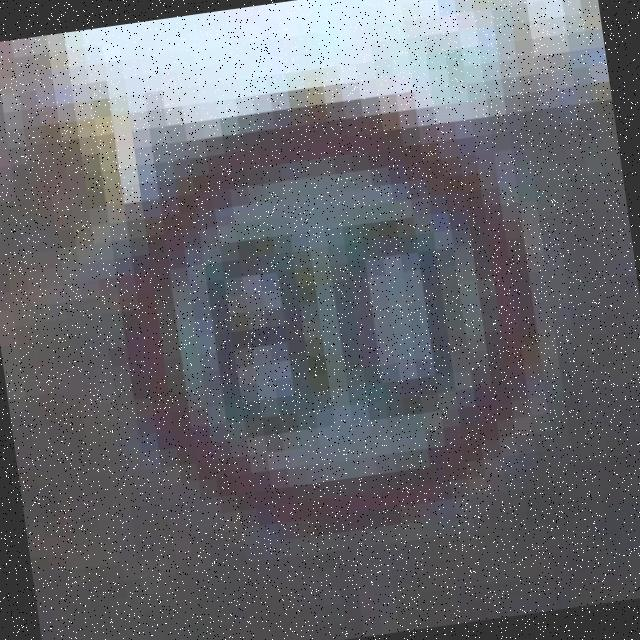Ograniczenie predkosci do 80: (91, 75, 562, 551)
